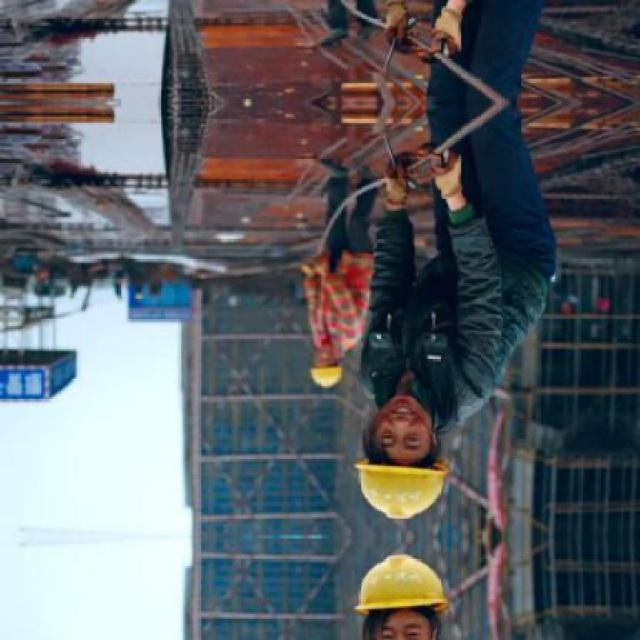con casco: (345, 417, 465, 524), (295, 348, 346, 397)
